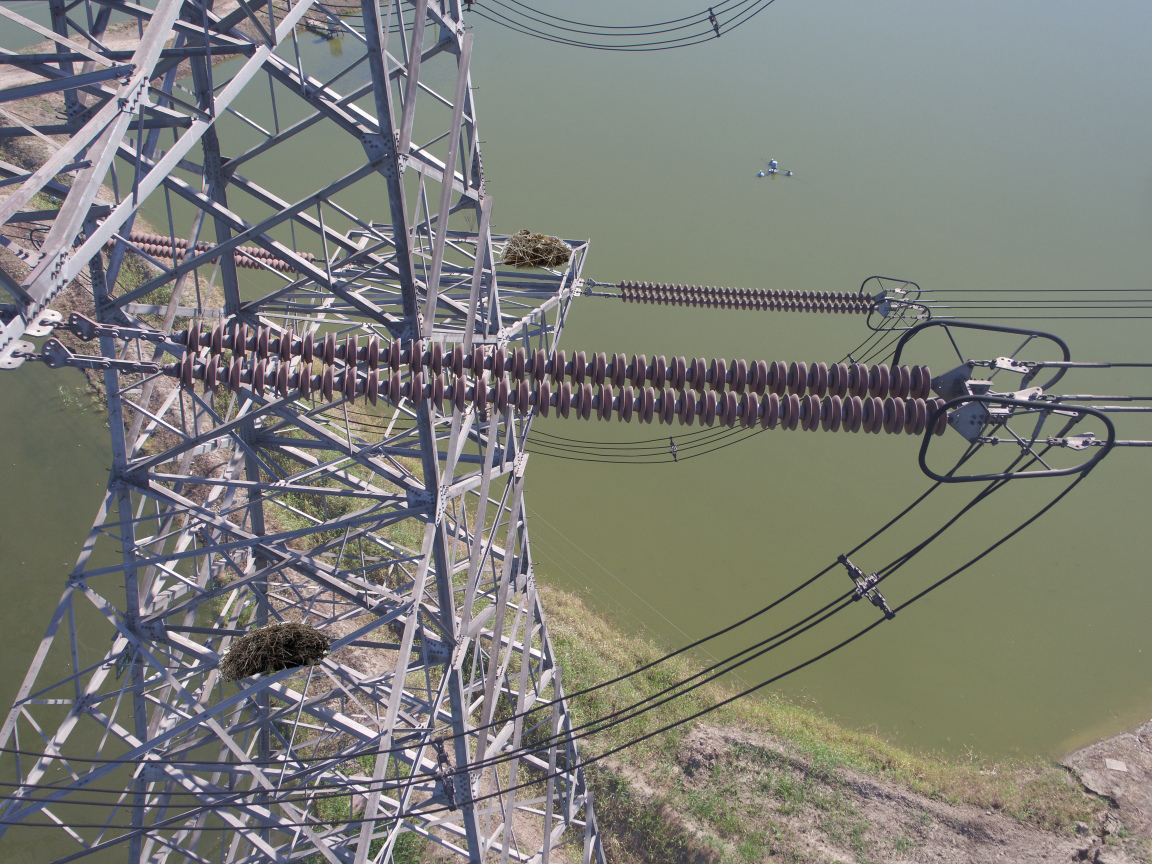nest: (217, 617, 334, 692), (496, 227, 576, 270)
